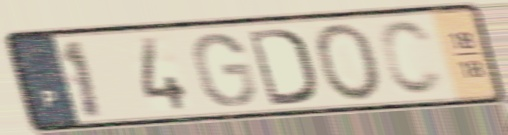1: (56, 36, 108, 119)
4: (139, 33, 192, 114)
C: (375, 17, 448, 99)
D: (244, 25, 319, 108)
G: (190, 30, 259, 110)
O: (311, 20, 387, 103)
